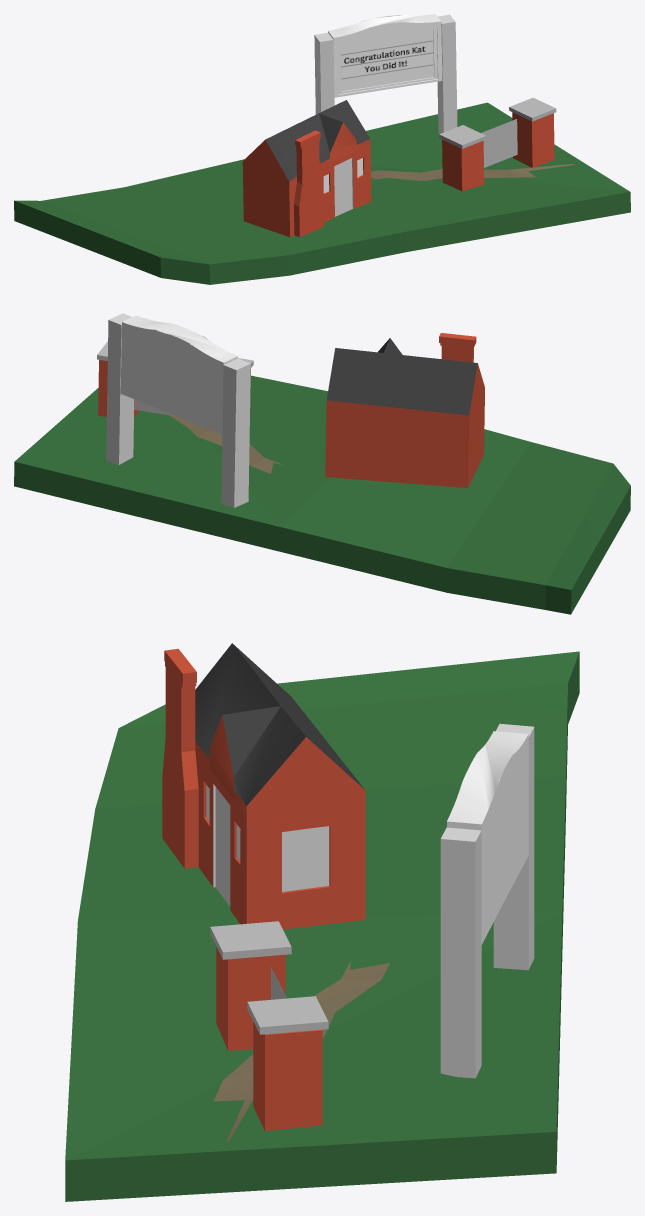
The model's file is isoguardhouse.glb.
3 views of the same model, one above another, from view 1: azimuth 30°, elevation 25°; view 2: azimuth 150°, elevation 25°; view 3: azimuth 270°, elevation 25° (orthographic). The views are drawn at different scales.
Visible parts, largest first — view 1: entrysign; view 2: entrysign; view 3: entrysign.
Boxes of the visible parts, left/top/right/bottom form: entrysign: left=14, top=14, right=630, bottom=284; entrysign: left=14, top=313, right=630, bottom=614; entrysign: left=65, top=643, right=579, bottom=1201.
Size of the model in its own units: 0.925 by 0.2698 by 0.422.
Materials: 10 (2 with a texture image).
